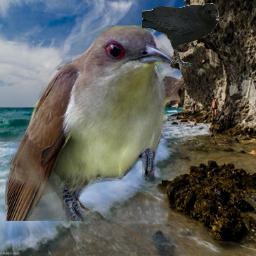Crow: (142, 3, 219, 68)
Cuckoo: (5, 25, 175, 221)
